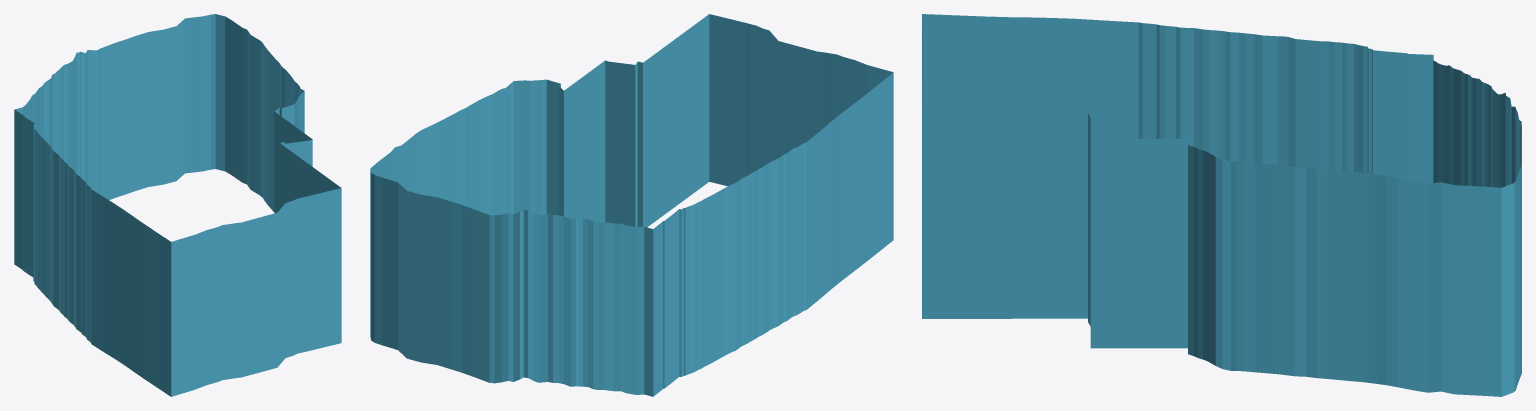
File: barrier.fbx
3 views of the same model, side by side, from view 1: azimuth 30°, elevation 25°; view 2: azimuth 150°, elevation 25°; view 3: azimuth 270°, elevation 25° (orthographic). The views are drawn at different scales.
Visible parts, largest first — view 1: bariera; view 2: bariera; view 3: bariera.
Boxes of the visible parts, x1,y1,x2,y2 form: bariera: (14, 14, 341, 396); bariera: (370, 14, 893, 396); bariera: (922, 14, 1521, 396).
Size of the model in its own units: 9534 by 6159 by 13644.
